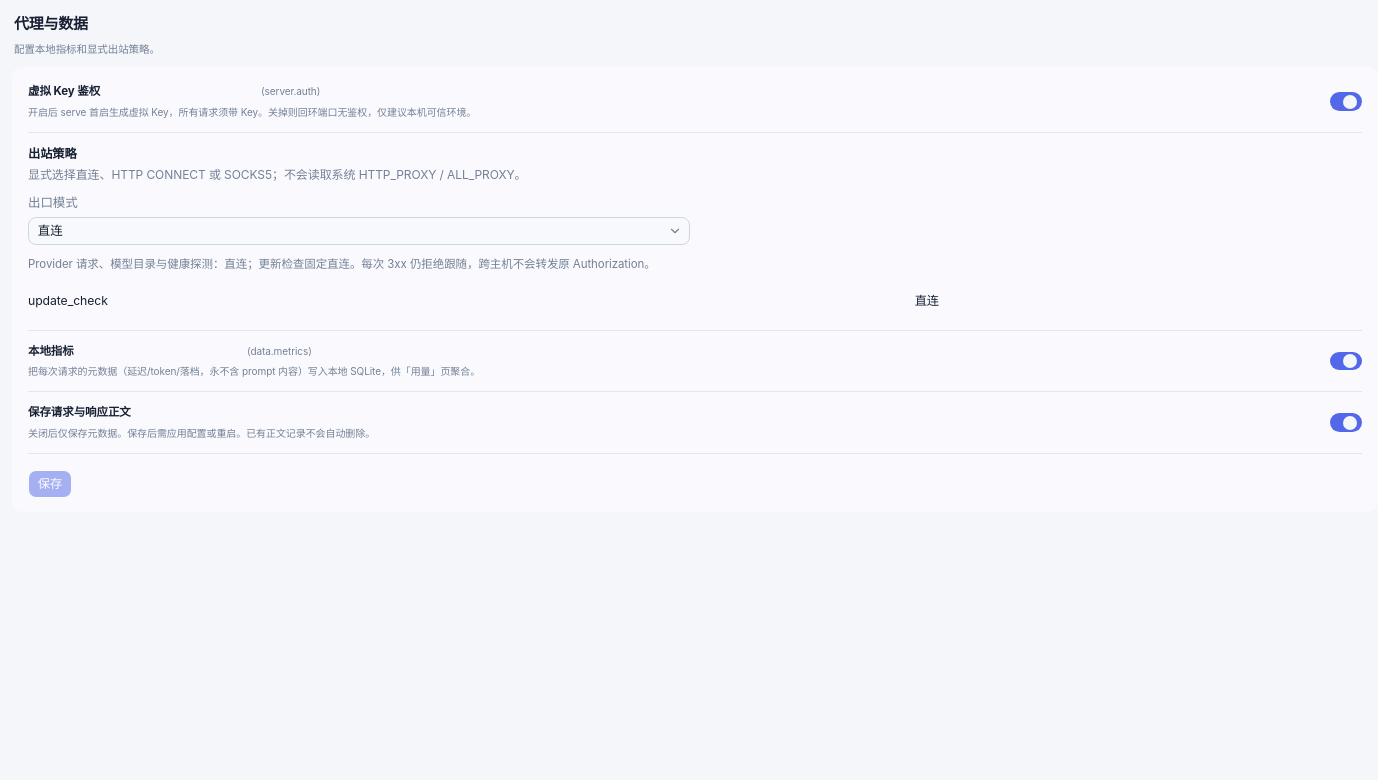
Test: settings and update actions › focuses and describes the proxy URL for a structured settings error
Click the dropdown named "出口模式" at (50, 231), box [28, 217, 690, 245]
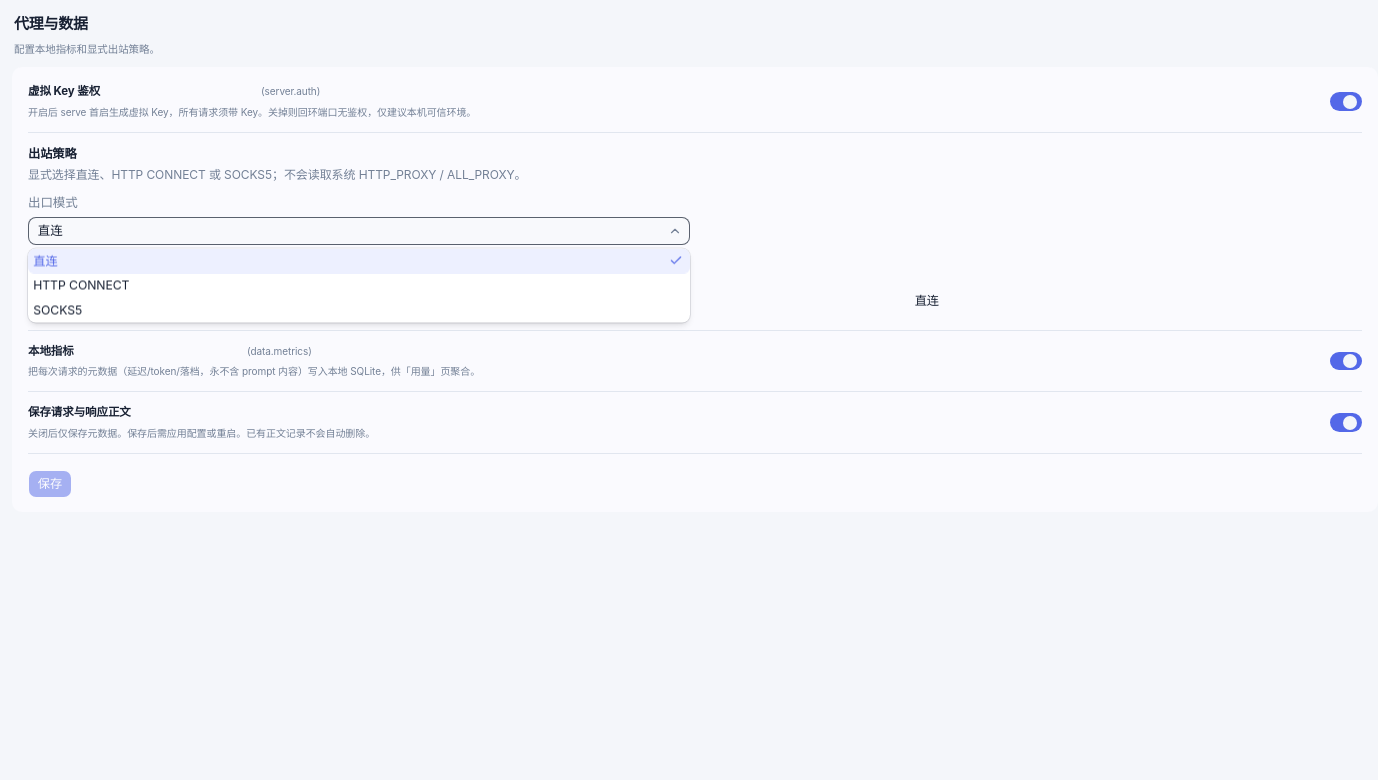
Click the option "HTTP CONNECT" at (81, 285), box [33, 278, 130, 292]
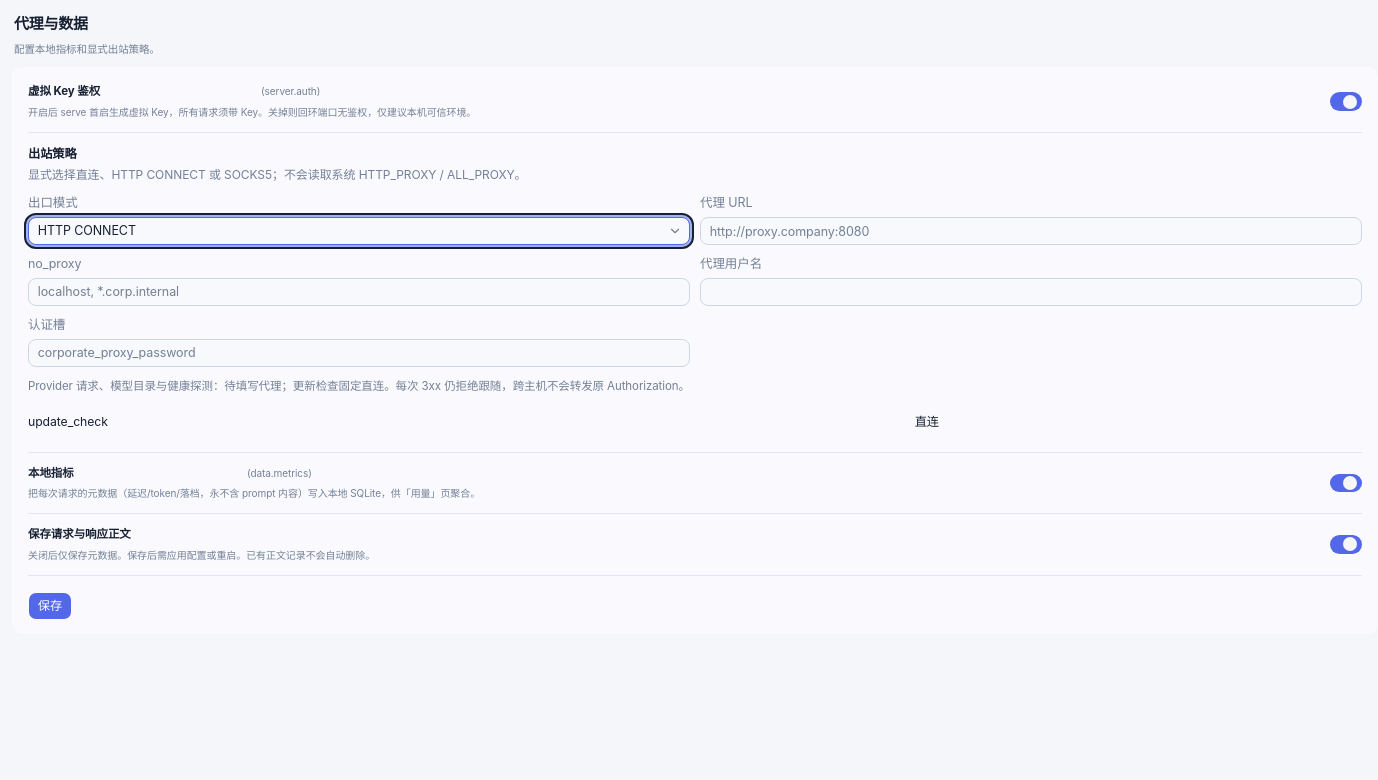
Type "ftp://invalid.example" into the field labelled "代理 URL" at (1031, 231), box [700, 217, 1362, 245]
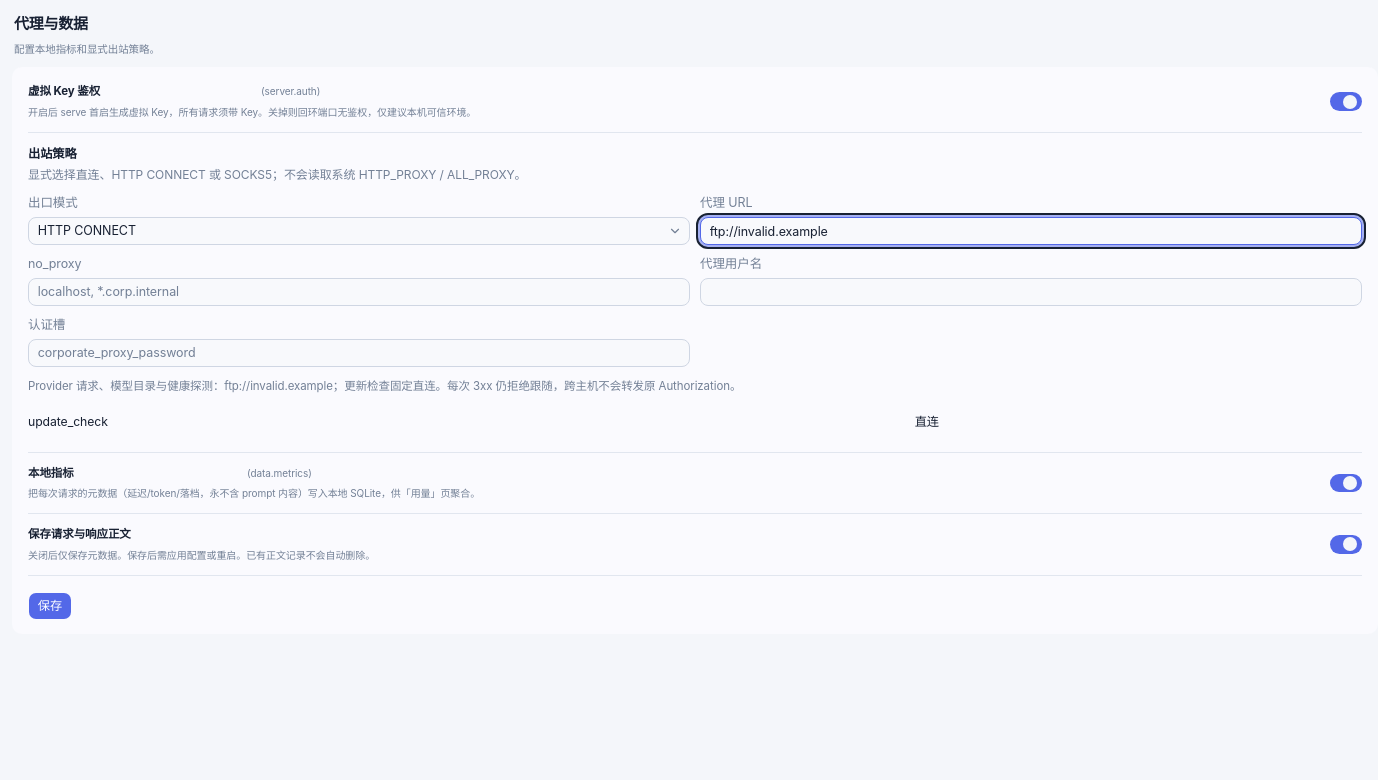
Click the button "保存" at (50, 606), box [28, 592, 72, 620]
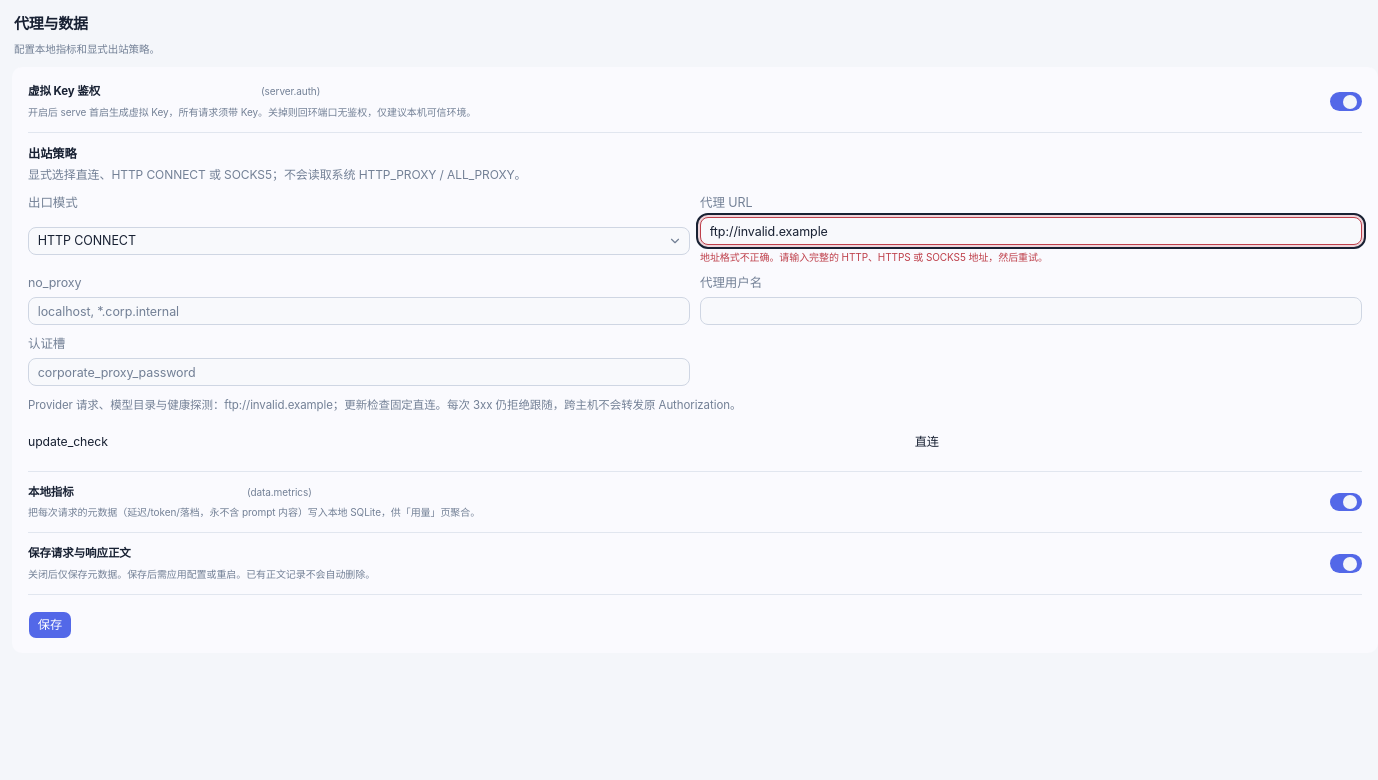
Expected: the message reads "地址格式不正确。请输入完整的 HTTP、HTTPS 或 SOCKS5 地址，然后重试。", [700, 251, 1048, 263]
